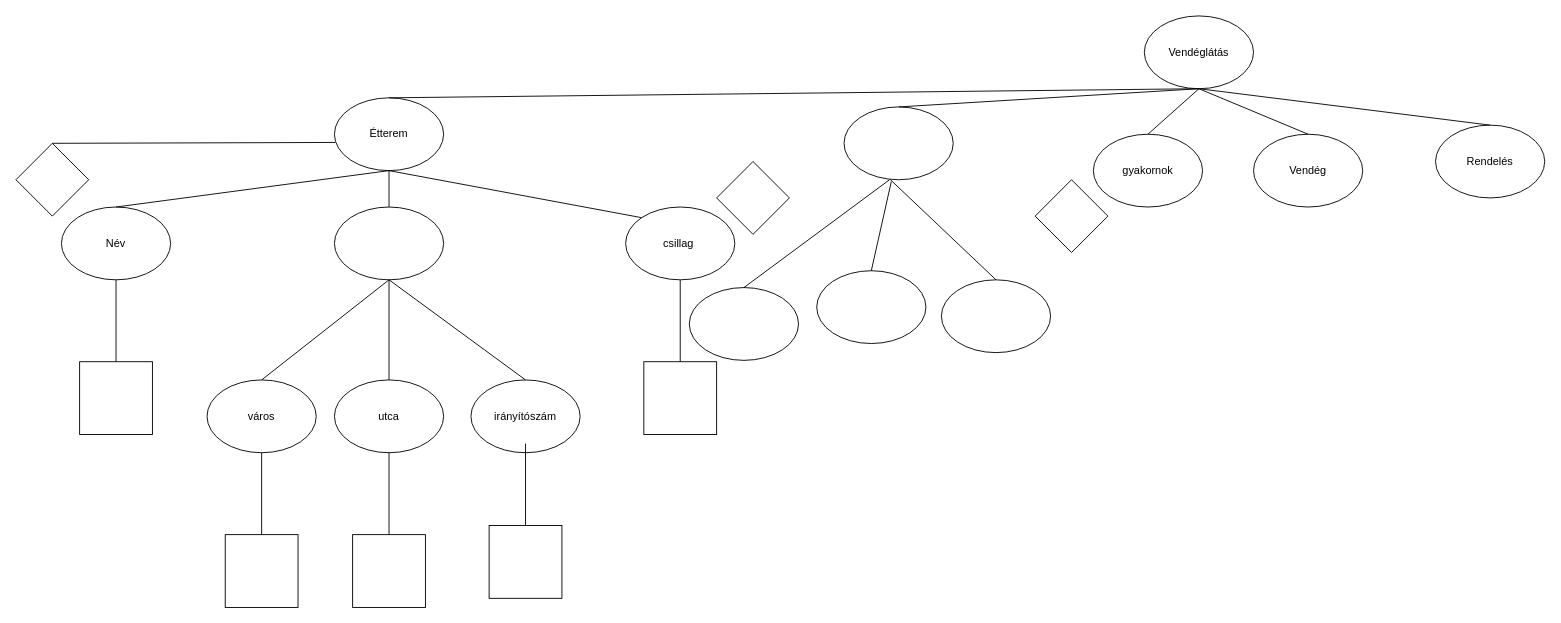
Some shapes in this 1561 by 623 pixel diagram are drawn without their labels. The shapes that lost their labels are listed below. From the top down, each one's centre as x and y in pixels, then its label:
(898,143): Főszakács
(52,179): Ekód
(389,243): cím
